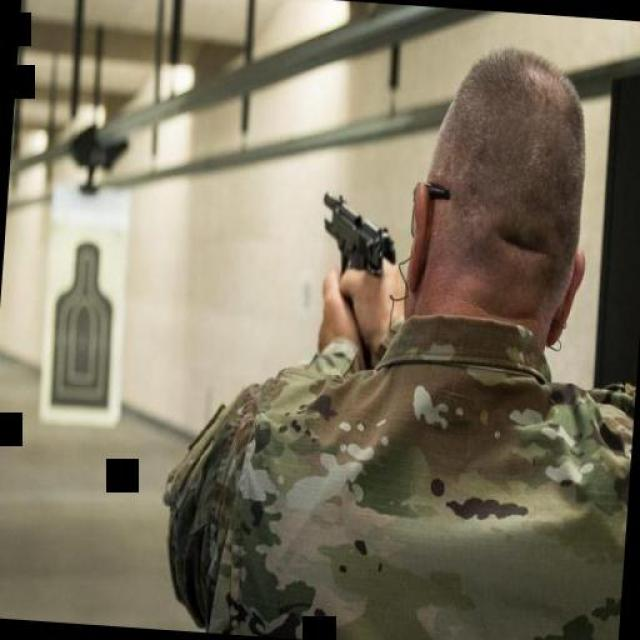gun: (309, 179, 401, 299)
